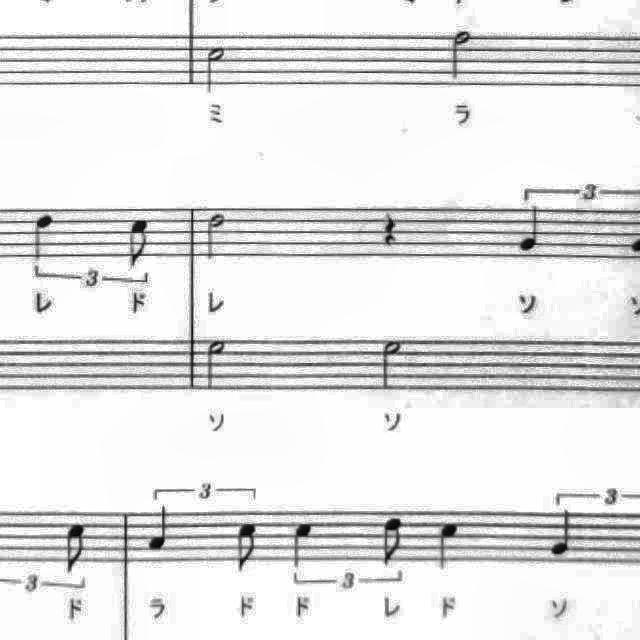Eighth-note: (121, 214, 159, 274), (230, 517, 266, 579), (376, 511, 412, 571), (58, 520, 94, 580)
Half-note: (200, 334, 234, 396), (444, 26, 478, 86), (376, 334, 408, 394), (200, 40, 232, 98), (200, 210, 232, 266)
Quarter-note: (544, 502, 584, 562), (431, 514, 467, 576), (24, 209, 62, 267), (513, 202, 551, 258), (284, 514, 320, 572), (142, 499, 176, 556)
Quarter-rest: (372, 204, 403, 252)
